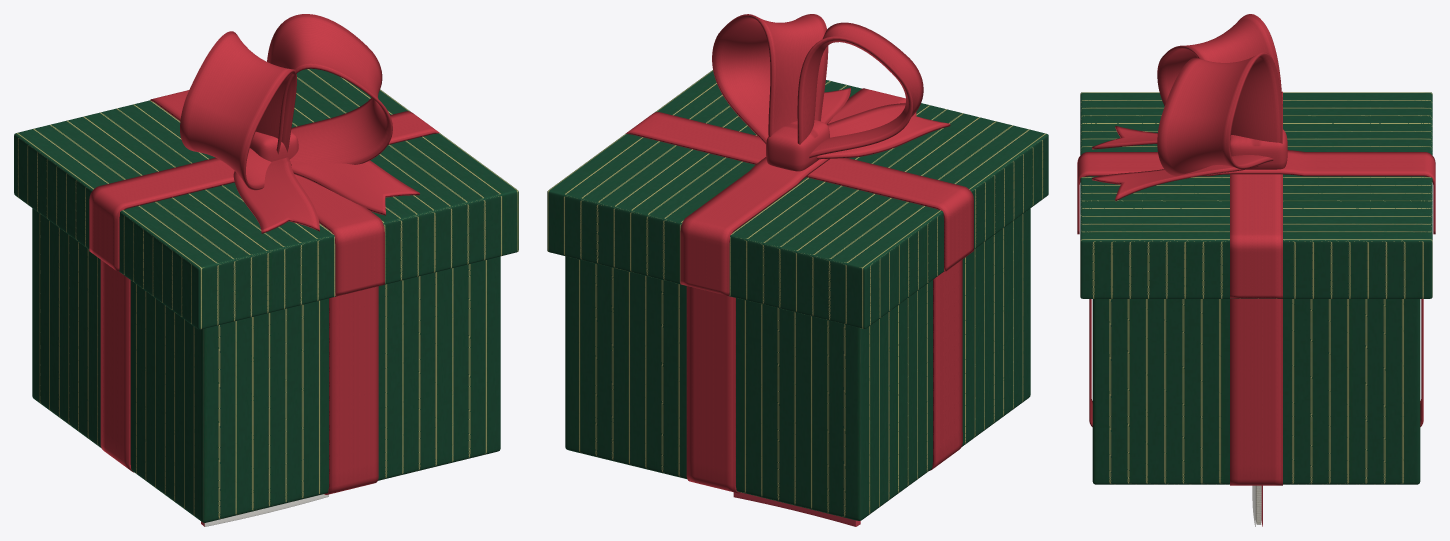
The model's file is wichteln.glb.
The picture shows the model from 3 angles, left to right: view 1: azimuth 30°, elevation 25°; view 2: azimuth 150°, elevation 25°; view 3: azimuth 270°, elevation 25°; orthographic projection. The views are drawn at different scales.
Parts seen in each view (by area): view 1: Body, LidShell, BowLoopL, BowLoopR, BodyRibbonB, LidRibbonA, BodyRibbonA, LidRibbonB, BowTailL, BowTailR, BowKnot, MagazinUmschlag; view 2: Body, LidShell, BowLoopR, BodyRibbonB, LidRibbonA, LidRibbonB, BowLoopL, BodyRibbonA, BowTailL, BowKnot, MagazinUmschlag, BowTailR; view 3: Body, LidShell, BowLoopR, BodyRibbonA, LidRibbonA, LidRibbonB, BowLoopL, BowTailR, BowKnot, BowTailL, BodyRibbonB.
Part boxes in pixels (x1,y1,x2,y2): Body: [32, 208, 500, 522]; LidShell: [14, 68, 518, 329]; BowLoopL: [180, 31, 296, 190]; BowLoopR: [267, 14, 392, 164]; BodyRibbonB: [324, 286, 378, 494]; LidRibbonA: [89, 111, 439, 271]; BodyRibbonA: [100, 260, 133, 472]; LidRibbonB: [150, 90, 384, 296]; BowTailL: [233, 157, 319, 233]; BowTailR: [290, 160, 419, 215]; BowKnot: [250, 131, 298, 161]; MagazinUmschlag: [201, 494, 328, 526]; Body: [565, 208, 1030, 520]; LidShell: [547, 70, 1048, 328]; BowLoopR: [712, 14, 828, 144]; BodyRibbonB: [686, 286, 740, 493]; LidRibbonA: [625, 112, 973, 271]; LidRibbonB: [680, 88, 905, 295]; BowLoopL: [797, 22, 923, 158]; BodyRibbonA: [929, 259, 962, 470]; BowTailL: [817, 103, 950, 159]; BowKnot: [766, 120, 829, 171]; MagazinUmschlag: [733, 492, 860, 526]; BowTailR: [821, 87, 850, 124]; Body: [1092, 299, 1420, 484]; LidShell: [1080, 92, 1432, 298]; BowLoopR: [1157, 52, 1282, 176]; BodyRibbonA: [1230, 299, 1282, 485]; LidRibbonA: [1230, 91, 1282, 298]; LidRibbonB: [1077, 150, 1435, 234]; BowLoopL: [1157, 14, 1282, 118]; BowTailR: [1092, 165, 1258, 200]; BowKnot: [1230, 129, 1287, 169]; BowTailL: [1092, 126, 1157, 149]; BodyRibbonB: [1089, 299, 1423, 426].
Size of the model in its own units: 1.75 by 2.49 by 1.75.
Materials: 6 (4 with a texture image).
